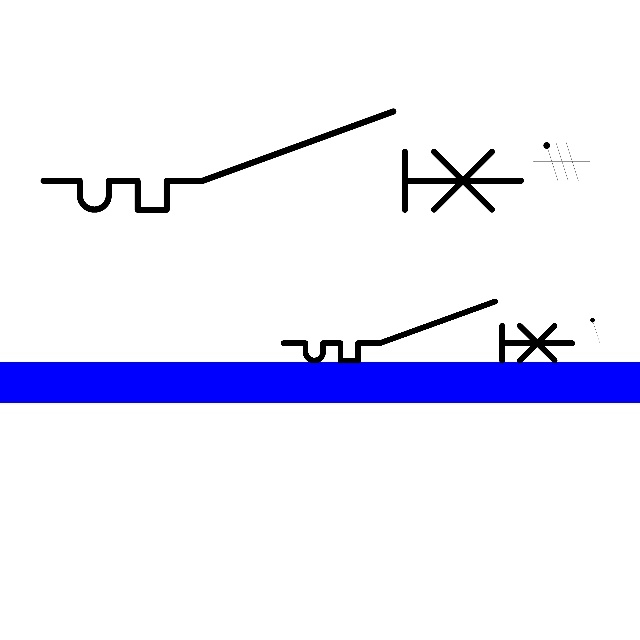interruptor_termomagnetico: (31, 99, 533, 222), (276, 294, 580, 368)
